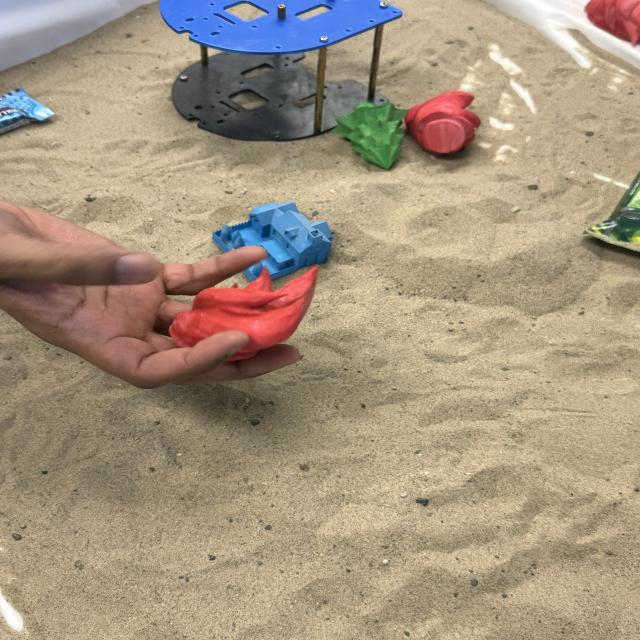fire: (168, 262, 320, 362), (408, 90, 484, 154), (590, 0, 640, 43)
house: (211, 201, 333, 282)
tree: (331, 100, 409, 170)
